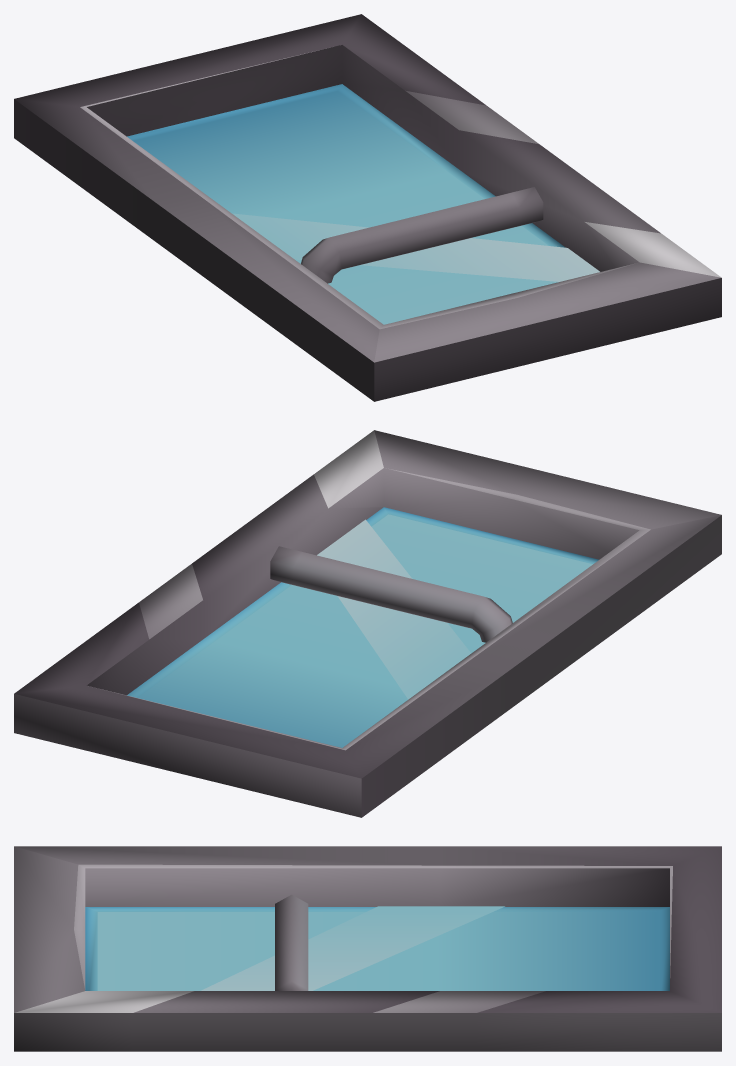
Rendered from DotsDoor.fbx.
3 views of the same model, one above another, from view 1: azimuth 30°, elevation 25°; view 2: azimuth 150°, elevation 25°; view 3: azimuth 270°, elevation 25° (orthographic).
Visible parts, largest first — view 1: DotsDoor; view 2: DotsDoor; view 3: DotsDoor.
Boxes of the visible parts, x1,y1,x2,y2 form: DotsDoor: (14, 14, 721, 401); DotsDoor: (14, 430, 721, 817); DotsDoor: (14, 846, 721, 1051).
Bounding box in the file's own units: 10241 × 1105 × 18378.
